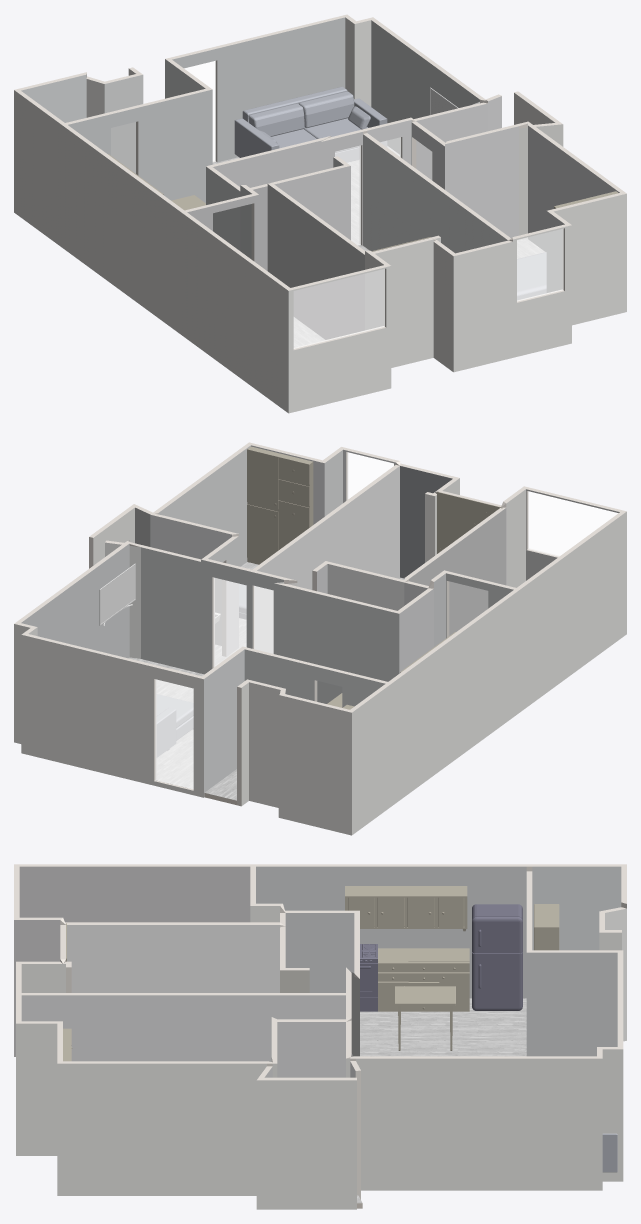
The model's file is apartment.glb.
3 views of the same model, one above another, from view 1: azimuth 30°, elevation 25°; view 2: azimuth 150°, elevation 25°; view 3: azimuth 270°, elevation 25° (orthographic). The views are drawn at different scales.
Visible parts, largest first — view 1: wall_31, wall_15, wall_58, wall_39, wall_14, wall_64, wall_25, wall_32, wall_17, sofa_rect0, wall_48, wall_50 (+40 smaller); view 2: wall_5, wall_31, wall_15, wall_60, wall_14, wall_4, wall_42, storage_cabinet_tall21, wall_50, wall_36, wall_39, wall_108 (+43 smaller); view 3: wall_1, wall_30, wall_76, wall_126, wall_52, wall_78, wall_110, wall_68, wall_13, wall_120, refrigerator0, storage_cabinet_low40 (+25 smaller).
Boxes of the visible parts, x1=… form: wall_31: x1=57, y1=122, x2=181, y2=334; wall_15: x1=181, y1=212, x2=288, y2=413; wall_58: x1=172, y1=17, x2=345, y2=162; wall_39: x1=267, y1=184, x2=364, y2=339; wall_14: x1=363, y1=134, x2=507, y2=253; wall_64: x1=68, y1=89, x2=212, y2=202; wall_25: x1=288, y1=266, x2=391, y2=413; wall_32: x1=453, y1=242, x2=512, y2=372; wall_17: x1=554, y1=193, x2=626, y2=325; sofa_rect0: x1=234, y1=86, x2=387, y2=162; wall_48: x1=445, y1=126, x2=518, y2=237; wall_50: x1=371, y1=20, x2=479, y2=154; wall_5: x1=21, y1=635, x2=203, y2=797; wall_31: x1=395, y1=590, x2=519, y2=802; wall_15: x1=519, y1=511, x2=626, y2=712; wall_60: x1=273, y1=583, x2=399, y2=703; wall_14: x1=255, y1=466, x2=399, y2=653; wall_4: x1=278, y1=695, x2=351, y2=835; wall_42: x1=141, y1=547, x2=200, y2=673; storage_cabinet_tall21: x1=247, y1=446, x2=313, y2=564; wall_50: x1=21, y1=543, x2=129, y2=658; wall_36: x1=352, y1=681, x2=395, y2=834; wall_39: x1=409, y1=508, x2=506, y2=635; wall_108: x1=158, y1=445, x2=250, y2=566; wall_1: x1=356, y1=1058, x2=602, y2=1190; wall_30: x1=57, y1=1063, x2=266, y2=1195; wall_76: x1=21, y1=995, x2=345, y2=1077; wall_126: x1=67, y1=925, x2=279, y2=992; wall_52: x1=256, y1=1080, x2=356, y2=1209; wall_78: x1=19, y1=866, x2=250, y2=922; wall_110: x1=256, y1=866, x2=526, y2=998; wall_68: x1=526, y1=952, x2=617, y2=1056; wall_13: x1=16, y1=1023, x2=57, y2=1155; wall_120: x1=532, y1=866, x2=621, y2=950; refrigerator0: x1=472, y1=904, x2=522, y2=1010; storage_cabinet_low40: x1=345, y1=886, x2=467, y2=931.
Size of the model in its own units: 8.82 by 2.7 by 10.95.
Materials: 130 (8 with a texture image).
